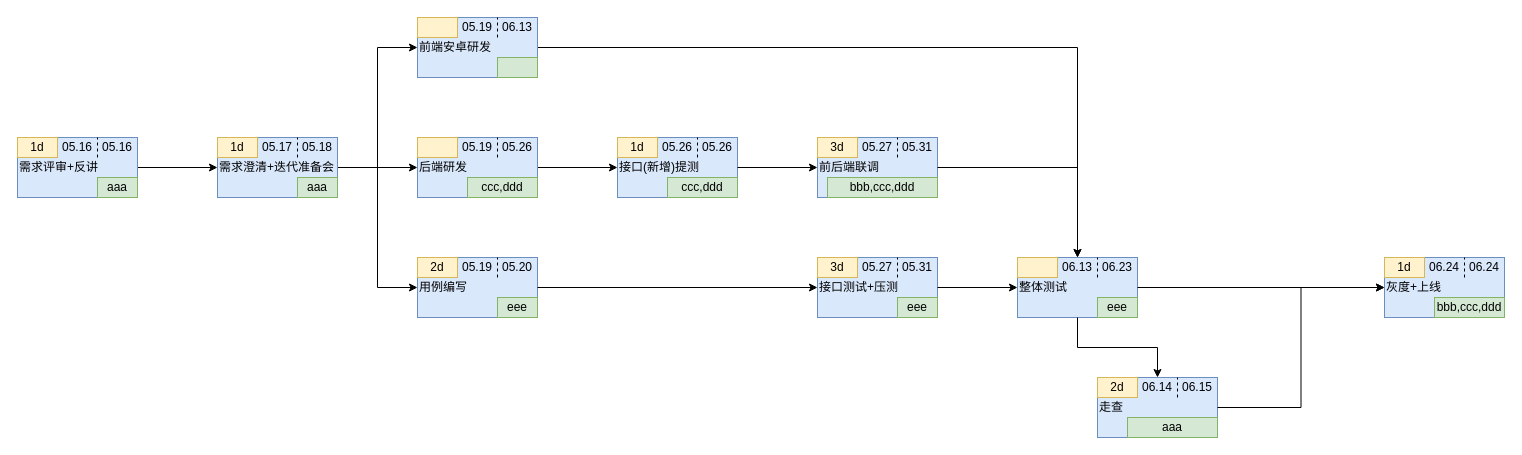
Some shapes in this 1522 by 455 pixel diagram are drawn without their labels. Here are the shapes that lost their labels. From the top down, the centre of each, then its label:
pixel 437 27: 17d
pixel 517 67: bbb
pixel 437 147: 6d
pixel 1037 267: 9d
